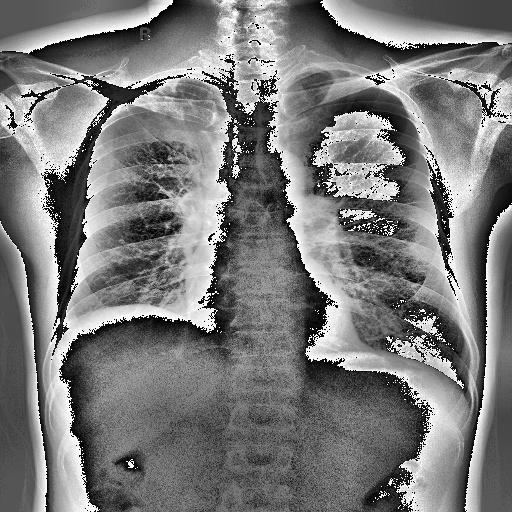10- Pleural effusion: (60, 308, 92, 330)
11- Pleural thickening: (118, 76, 184, 104), (134, 78, 192, 98), (60, 308, 92, 330)
13- Pulmonary fibrosis: (112, 85, 204, 162), (150, 84, 212, 144), (136, 105, 199, 148), (385, 156, 423, 176), (390, 194, 432, 208), (386, 162, 424, 177), (400, 200, 440, 210), (394, 161, 428, 169), (396, 200, 433, 206)
9- Other lesion: (49, 306, 197, 360)
